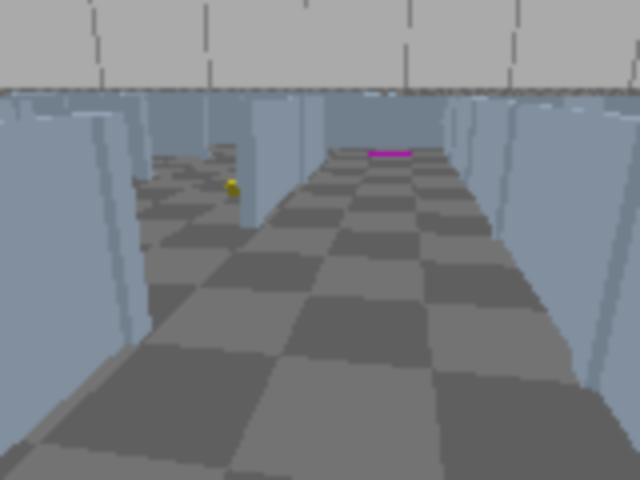goal_zone: (365, 150, 412, 158)
